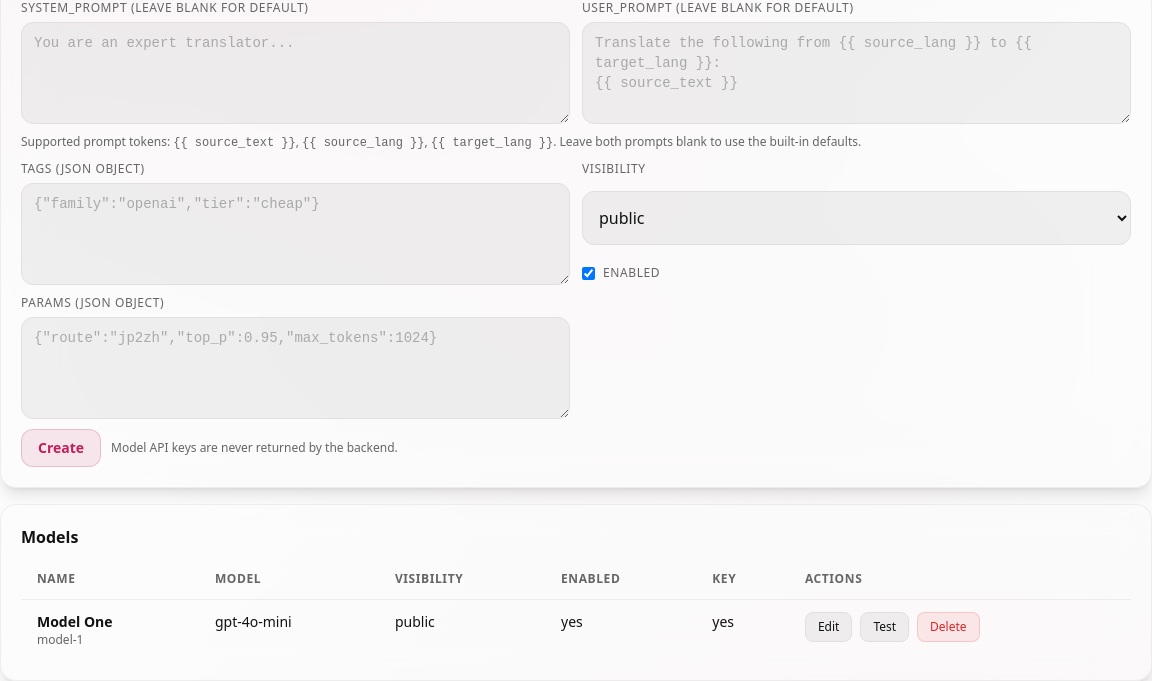
AdminModelsRoute › enforces mutual exclusivity between clear api_key and new api_key inputs
This screenshot has width=1152, height=681.
(page scrolled)
Expected: the text "Model One" is shown, [37,612,112,631]
Click the button "Edit".
click(829, 627)  # box [805,612,852,642]
(page scrolled)
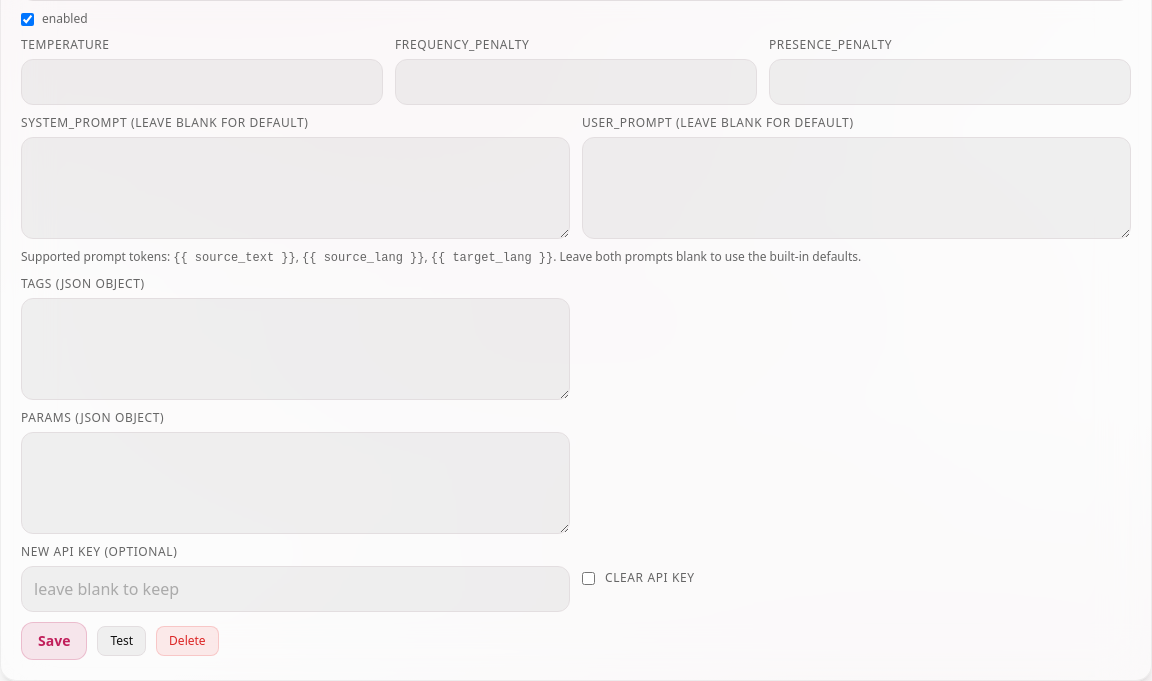
Click the checkbox labelled "Clear API key".
click(588, 578)  # box [582,572,595,584]
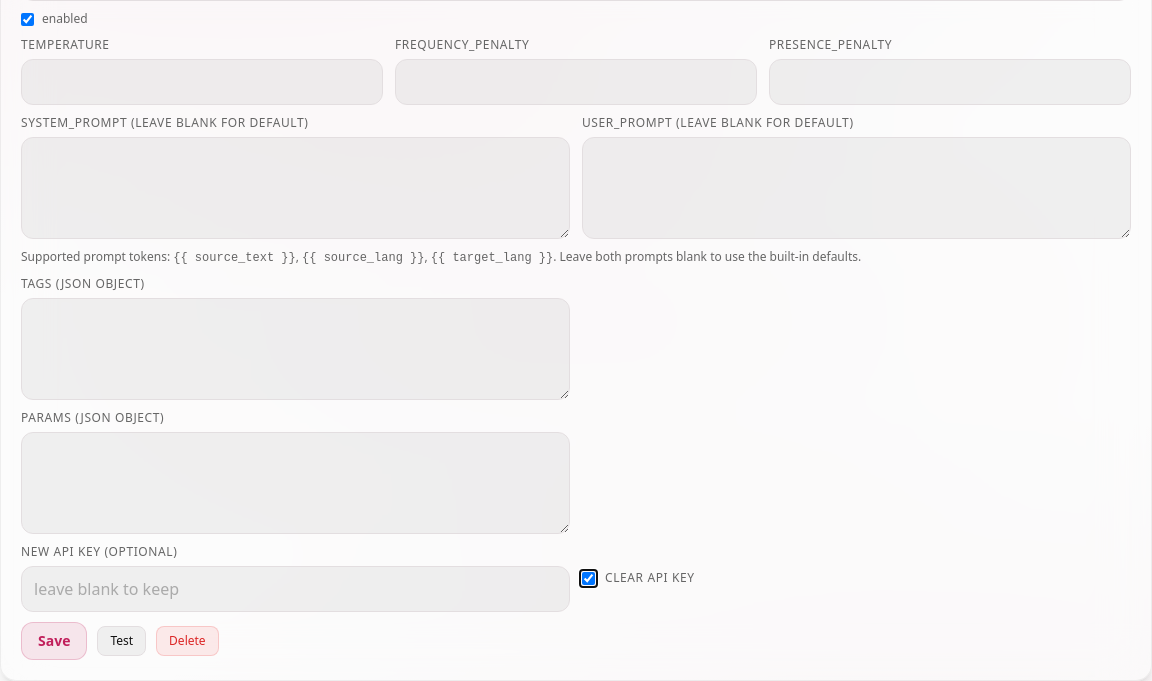
Expected: the password field labelled "New API key (optional)" is disabled, [21,566,570,612]
Expected: the checkbox labelled "Clear API key" is checked
Click the checkbox labelled "Clear API key".
click(588, 578)  # box [582,572,595,584]
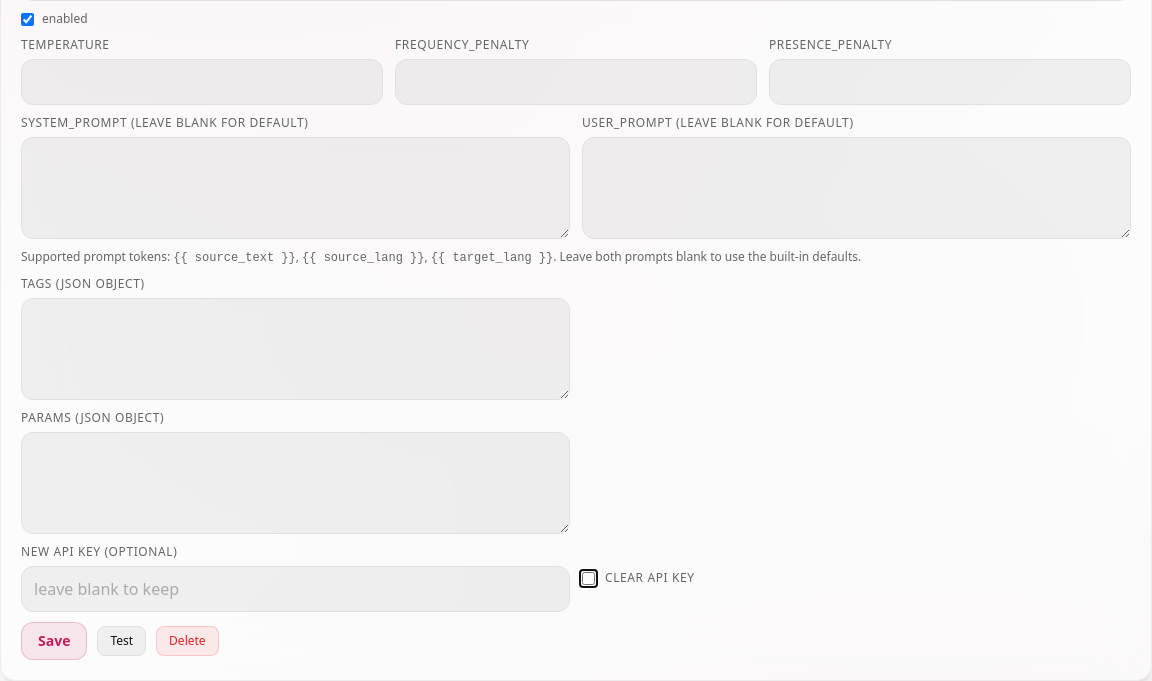
Expected: the checkbox labelled "Clear API key" is not checked, [582,572,595,584]
Type "new-secret-key" into the password field labelled "New API key (optional)".
click(296, 589); type("new-secret-key")  # box [21,566,570,612]
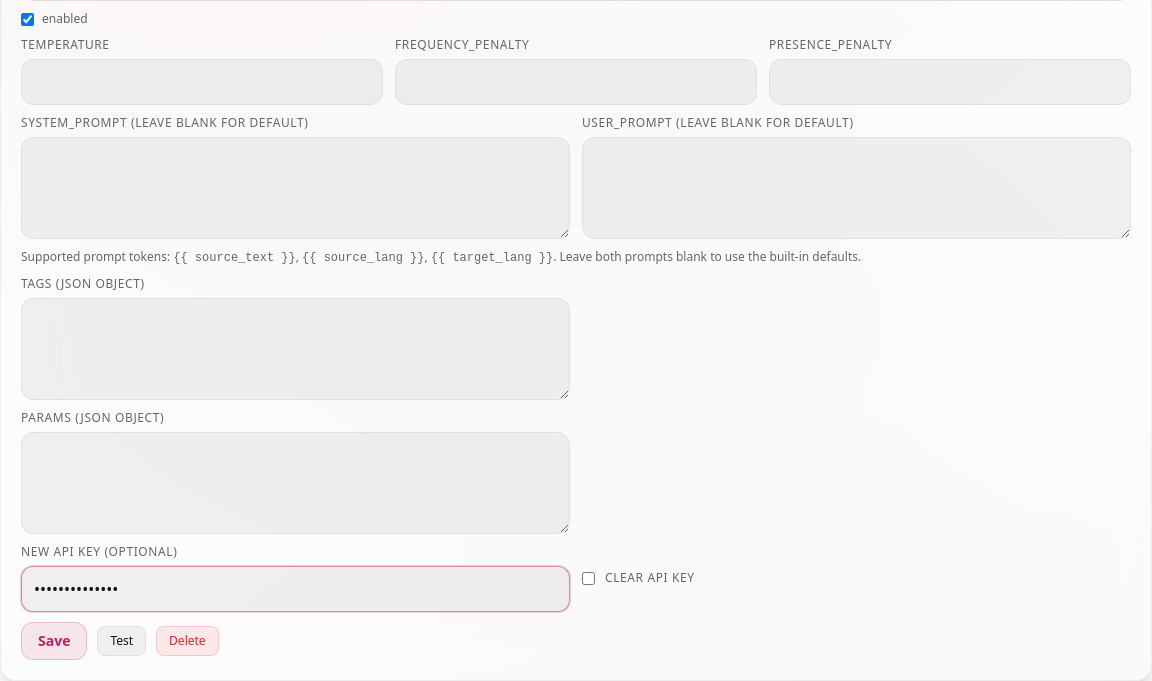
Click the checkbox labelled "Clear API key".
click(588, 578)  # box [582,572,595,584]
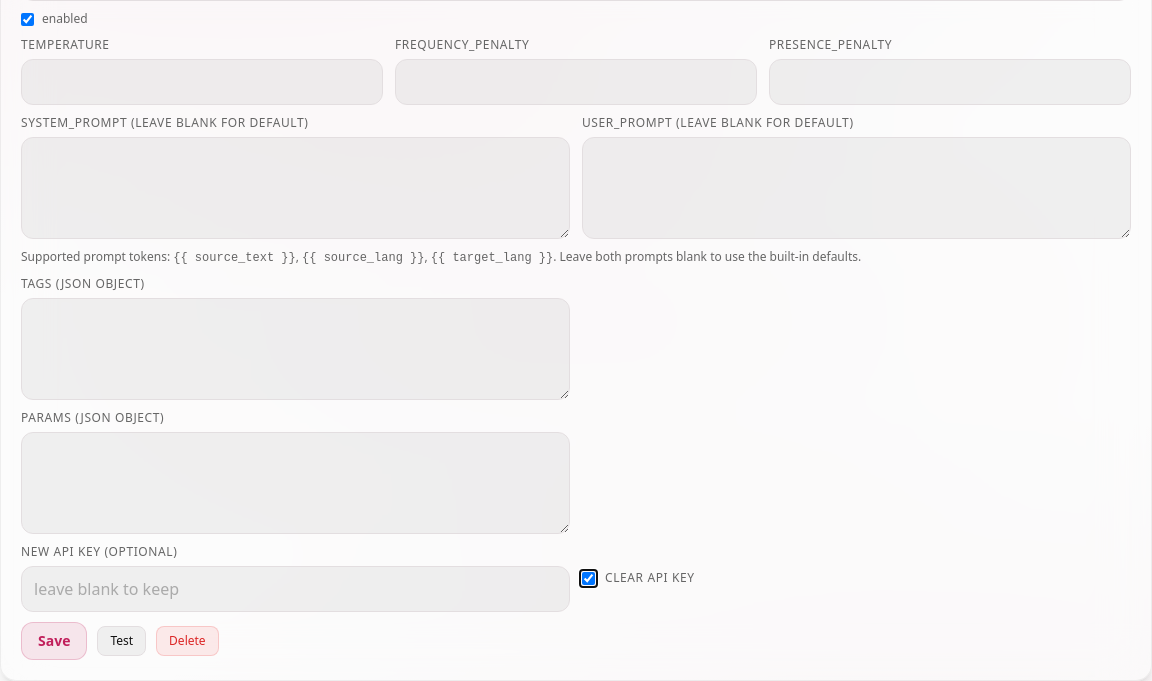
Expected: the checkbox labelled "Clear API key" is checked, [582,572,595,584]
Expected: the password field labelled "New API key (optional)" is empty, [21,566,570,612]
Expected: the password field labelled "New API key (optional)" is disabled, [21,566,570,612]
